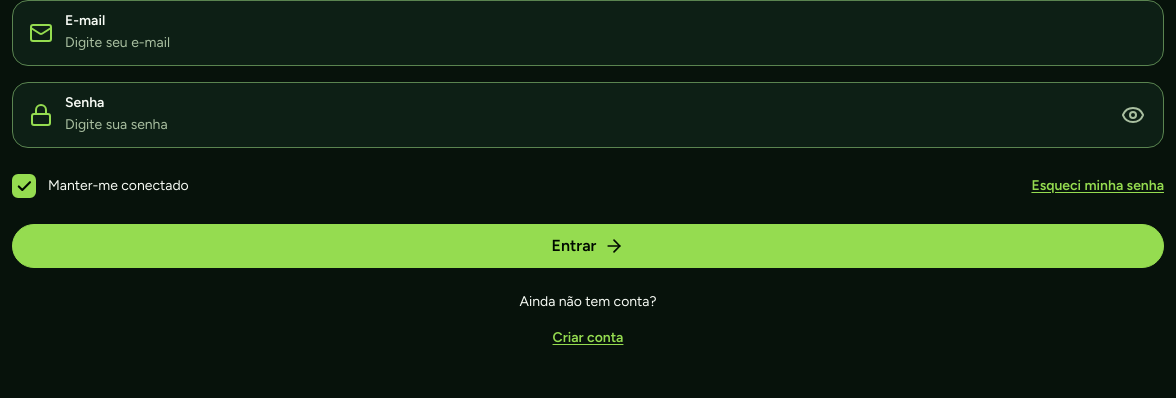
it: EntrarForm › mostra o erro inesperado sem apagar o que foi digitado
Type "ana@exemplo.com" into the field labelled "E-mail".
click(606, 43); type("ana@exemplo.com")  # box x1=65 y1=31 x2=1147 y2=55
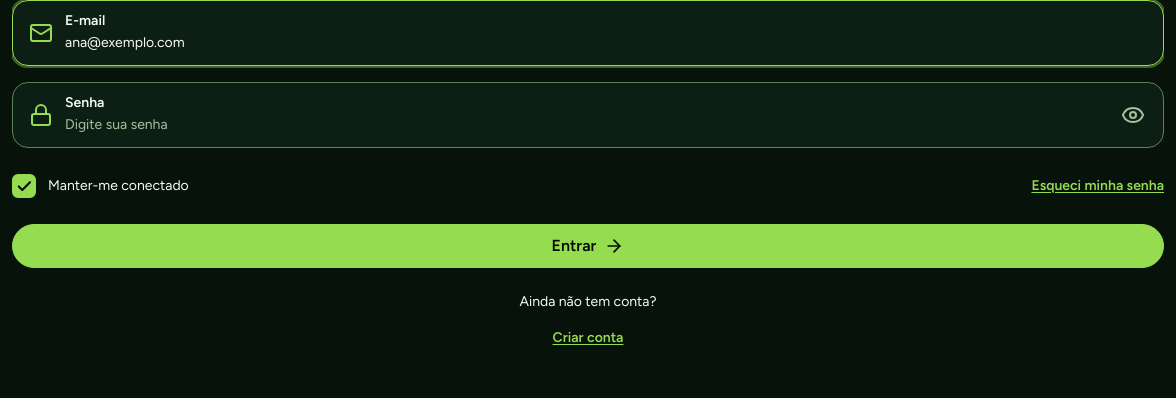
Type "qualquer" into the password field labelled "Senha".
click(582, 125); type("qualquer")  # box x1=65 y1=113 x2=1099 y2=137
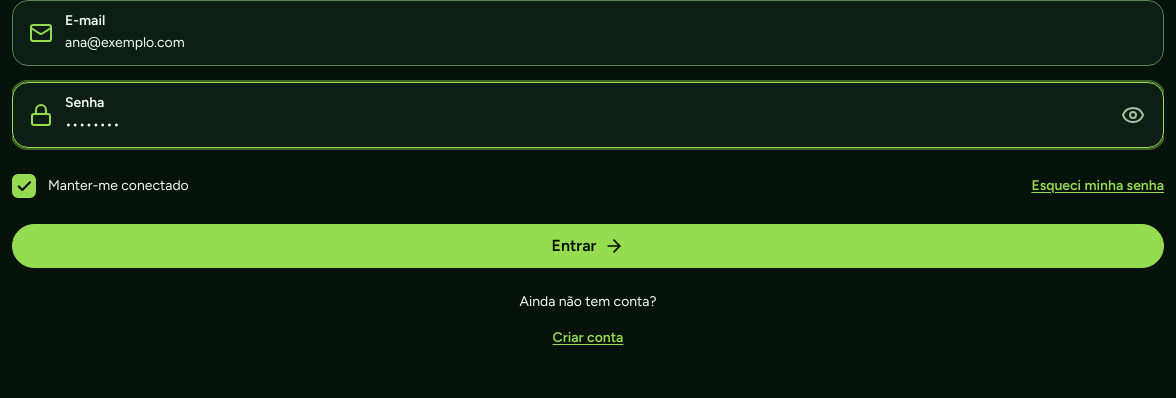
Click the button "Entrar".
click(588, 246)  # box x1=12 y1=224 x2=1164 y2=268
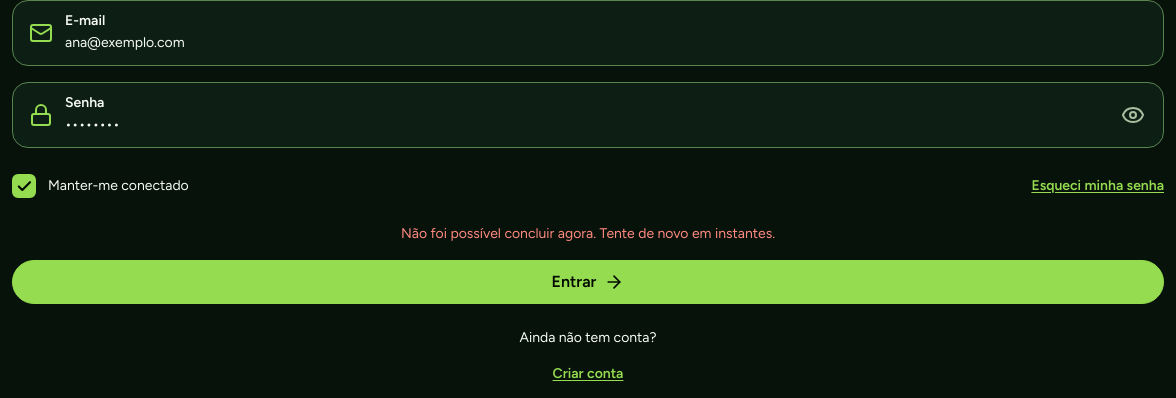
Now the text "Não foi possível concluir agora. Tente de novo em instantes." is shown, box x1=401 y1=225 x2=775 y2=242
